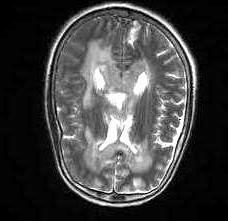Normal_Brain: (5, 5, 215, 216)
